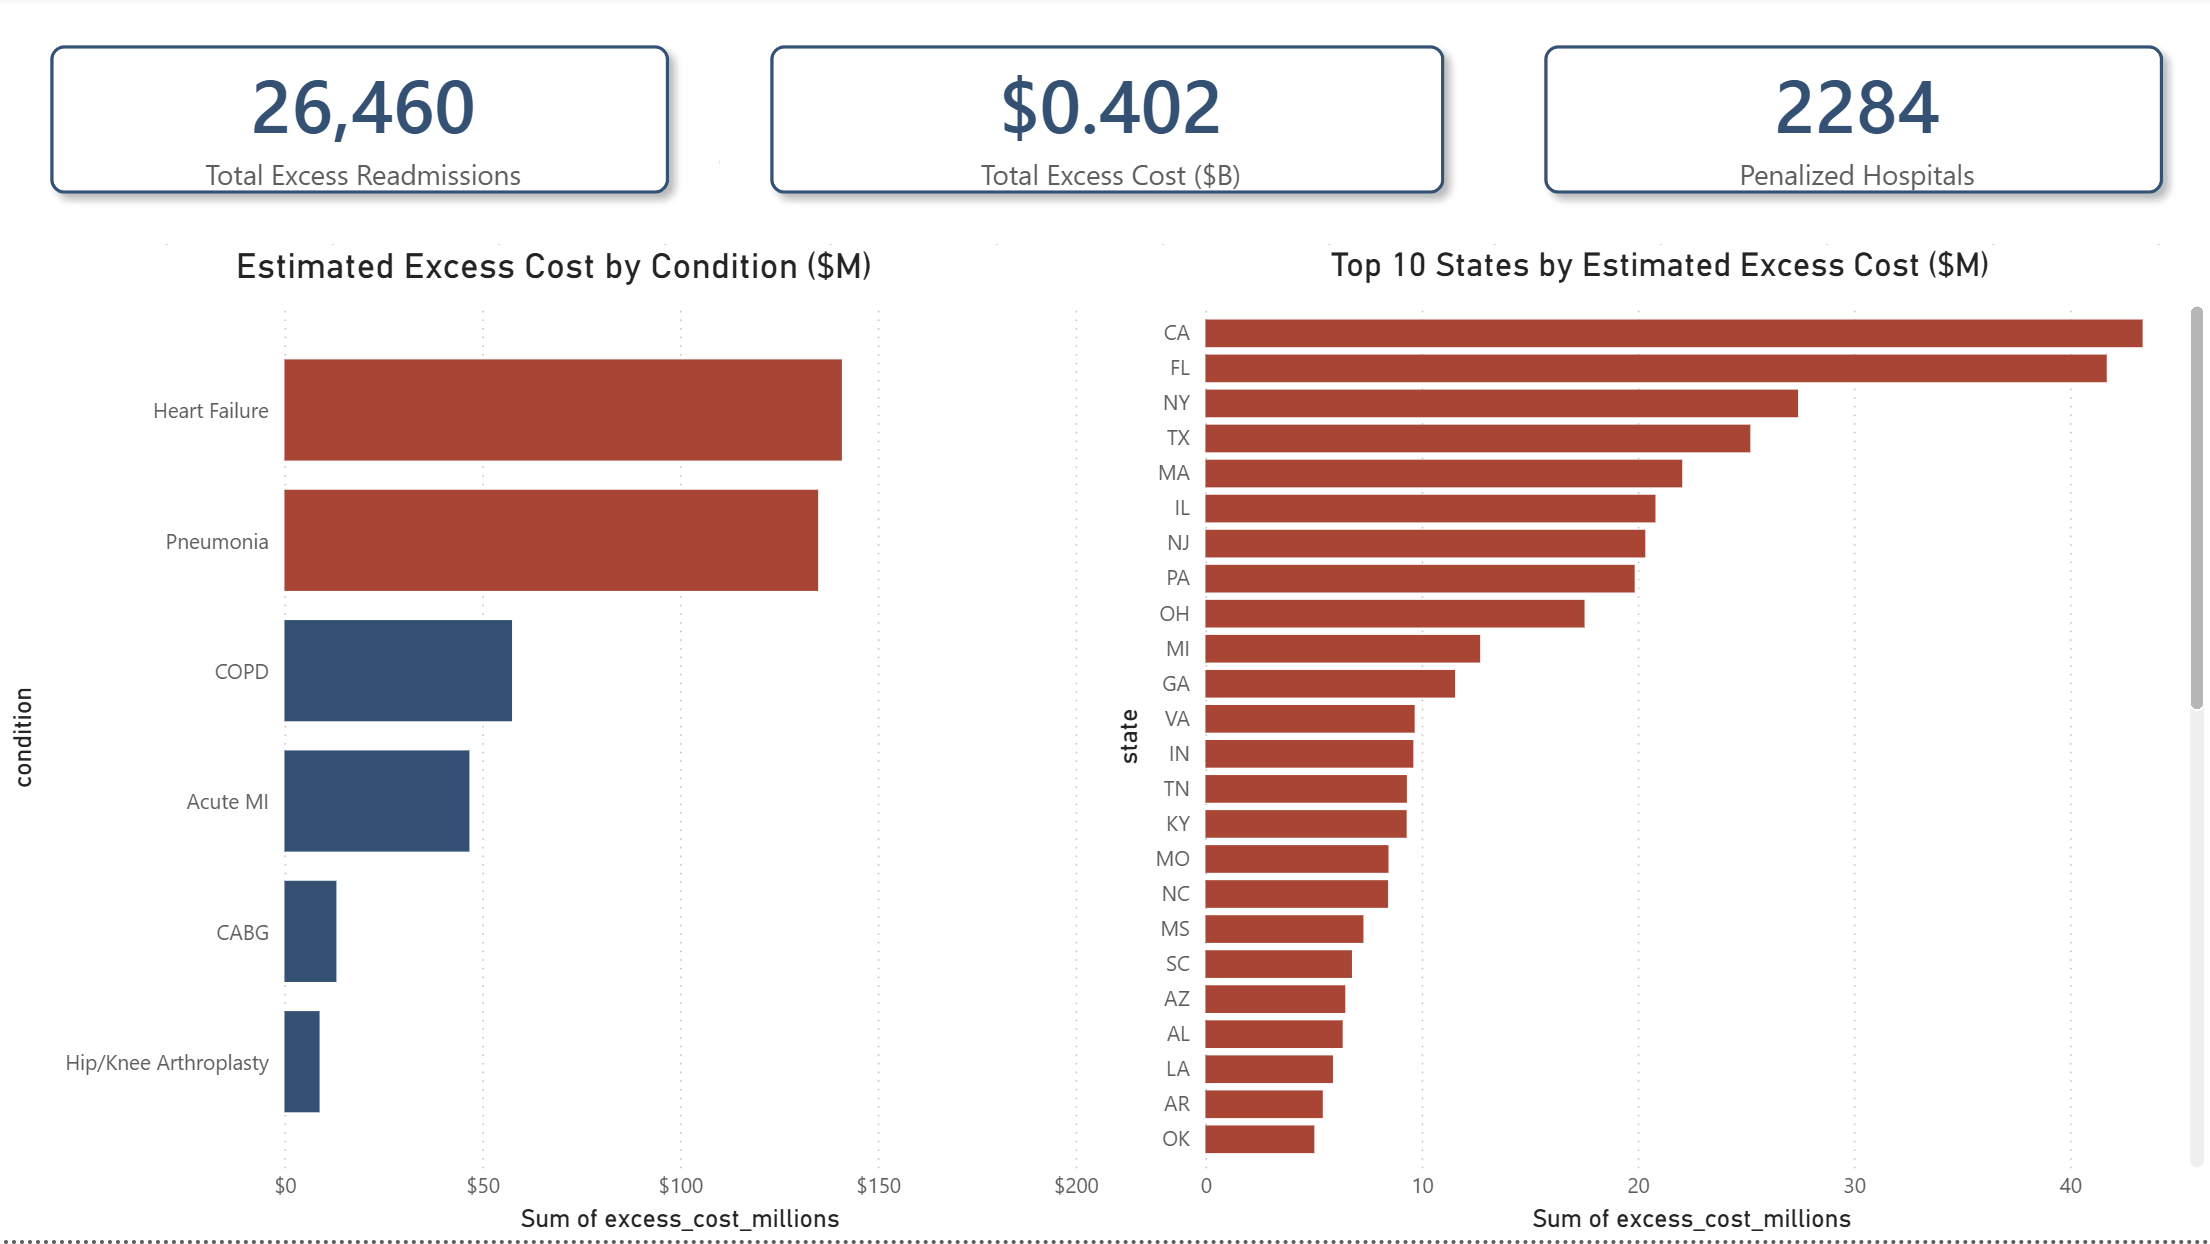

What the dashboard file says about the page in this screenshot:
{"tool":"powerbi","page":{"name":"Cost Impact","canvas":[1280,720],"ordinal":3},"visuals":[{"type":"cardVisual","fields":{"Data":["Sum(vw_executive_kpis.total_excess_readmissions)"]},"box":[0,0,416,144],"z":0},{"type":"cardVisual","fields":{"Data":["vw_executive_kpis.CI - Total Excess Cost"]},"box":[416,0,448,144],"z":1000},{"type":"cardVisual","fields":{"Data":["vw_executive_kpis.CI - Penalized Hospitals"]},"box":[864,0,416,144],"z":2000},{"type":"clusteredBarChart","title":"Estimated Excess Cost by Condition ($M)","fields":{"Category":["vw_condition_summary.condition"],"Y":["Sum(vw_condition_summary.excess_cost_millions)"]},"box":[0,144,640,576],"z":3000},{"type":"clusteredBarChart","title":"Top 10 States by Estimated Excess Cost ($M)","fields":{"Category":["vw_state_summary.state"],"Y":["Sum(vw_state_summary.excess_cost_millions)"]},"box":[640,144,640,576],"z":4000}]}

Visuals, with their boxes in screenshot pixels (x1, y1, x2, y2), scaled from the page's 1280x720 canvas onto the 2210x1244 screenshot:
cardVisual - Sum(vw_executive_kpis.total_excess_readmissions): bbox=(0, 0, 718, 249)
cardVisual - vw_executive_kpis.CI - Total Excess Cost: bbox=(718, 0, 1492, 249)
cardVisual - vw_executive_kpis.CI - Penalized Hospitals: bbox=(1492, 0, 2209, 249)
"Estimated Excess Cost by Condition ($M)" clusteredBarChart: bbox=(0, 249, 1105, 1243)
"Top 10 States by Estimated Excess Cost ($M)" clusteredBarChart: bbox=(1105, 249, 2209, 1243)
